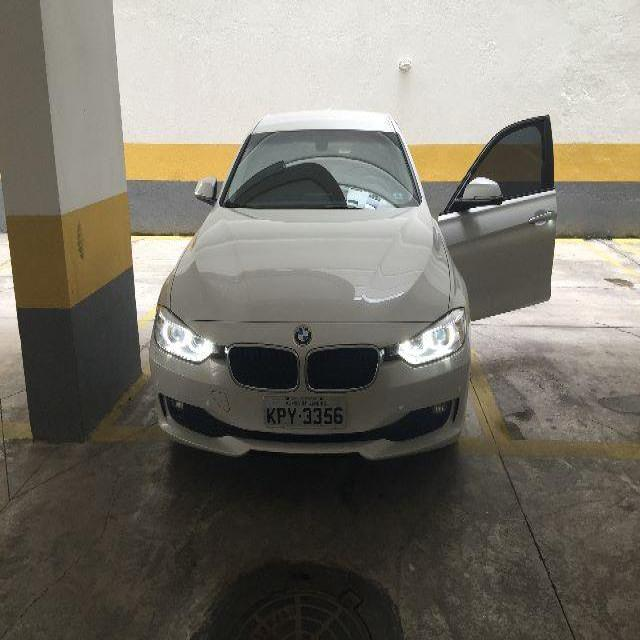Placa: (263, 391, 351, 435)
